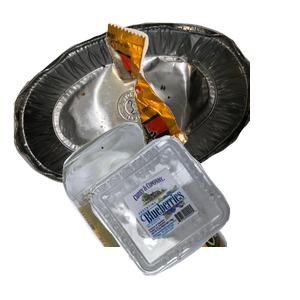glass: (60, 120, 300, 300)
metal: (11, 20, 251, 200)
plastic: (88, 133, 300, 300)
trash: (103, 21, 300, 174)
